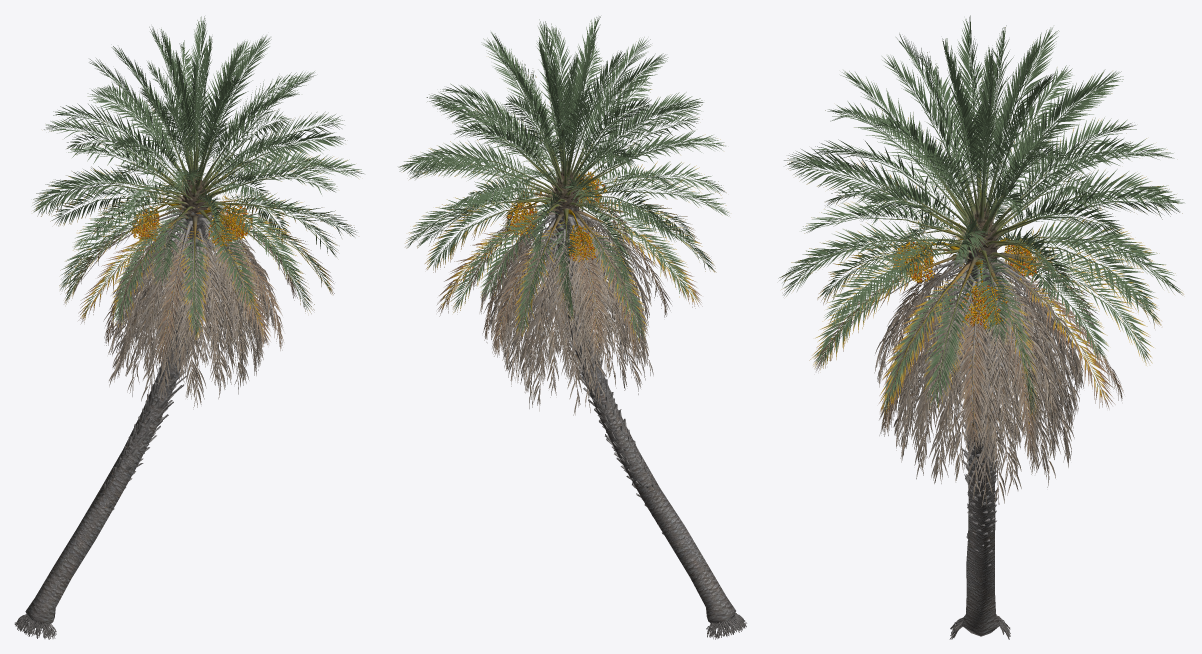
The model's file is Phoenix dactylifera HD_Curved mat 75_LOD4.fbx.
The picture shows the model from 3 angles, left to right: view 1: azimuth 30°, elevation 25°; view 2: azimuth 150°, elevation 25°; view 3: azimuth 270°, elevation 25°; orthographic projection. The views are drawn at different scales.
Visible parts, largest first — view 1: Phoenix_dactylifera_HD; view 2: Phoenix_dactylifera_HD; view 3: Phoenix_dactylifera_HD.
Part boxes in pixels (x1=…): Phoenix_dactylifera_HD: x1=14, y1=16, x2=363, y2=639; Phoenix_dactylifera_HD: x1=398, y1=16, x2=746, y2=639; Phoenix_dactylifera_HD: x1=778, y1=15, x2=1184, y2=639.
Size of the model in its own units: 8.26 by 13.35 by 7.19.
Materials: 18 (18 with a texture image).
